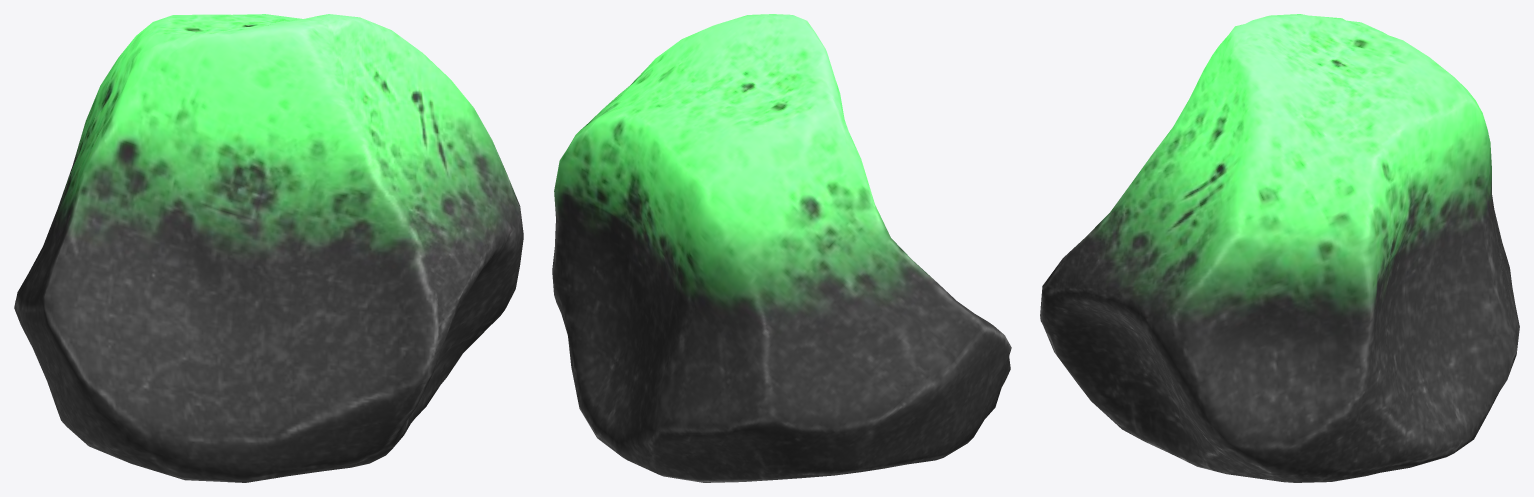
The picture shows the model from 3 angles, left to right: view 1: azimuth 30°, elevation 25°; view 2: azimuth 150°, elevation 25°; view 3: azimuth 270°, elevation 25°; orthographic projection. The views are drawn at different scales.
Parts seen in each view (by area): view 1: Rock_Low1:Group31467; view 2: Rock_Low1:Group31467; view 3: Rock_Low1:Group31467.
Part boxes in pixels (x1=…): Rock_Low1:Group31467: x1=14, y1=14, x2=523, y2=482; Rock_Low1:Group31467: x1=552, y1=14, x2=1011, y2=482; Rock_Low1:Group31467: x1=1040, y1=14, x2=1519, y2=482.
Bounding box in the file's own units: 2 × 1.75 × 1.93.
Materials: 1 (1 with a texture image).
